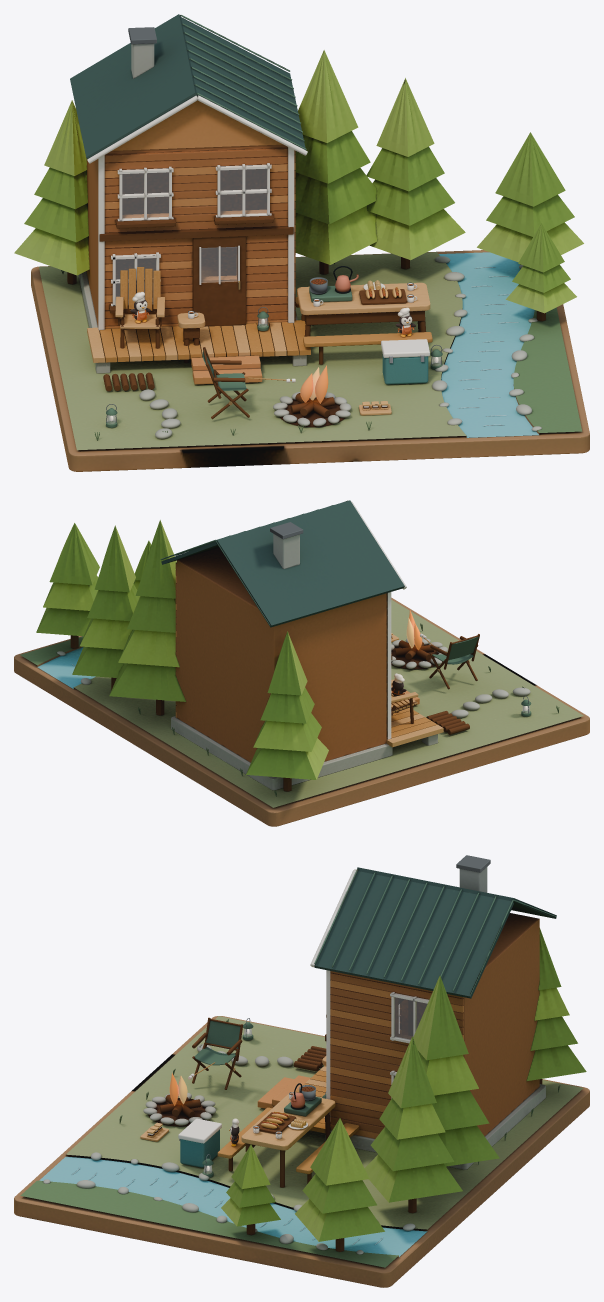
File: riverside-campsite.glb
3 views of the same model, one above another, from view 1: azimuth 30°, elevation 25°; view 2: azimuth 150°, elevation 25°; view 3: azimuth 270°, elevation 25° (orthographic). The views are drawn at different scales.
Visible parts, largest first — view 1: Baked riverside-campsite architecture, Baked riverside-campsite details, Live glass and reflective metal; view 2: Baked riverside-campsite architecture, Baked riverside-campsite details, Live glass and reflective metal; view 3: Baked riverside-campsite architecture, Baked riverside-campsite details, Live glass and reflective metal.
Part boxes in pixels (x1,y1,x2,y2): Baked riverside-campsite architecture: (14,14,589,471); Baked riverside-campsite details: (61,223,576,440); Live glass and reflective metal: (106,27,442,423); Baked riverside-campsite architecture: (14,500,589,826); Baked riverside-campsite details: (37,540,559,796); Live glass and reflective metal: (270,522,529,713); Baked riverside-campsite architecture: (14,867,589,1287); Baked riverside-campsite details: (43,1015,560,1257); Live glass and reflective metal: (179,855,490,1174).
Bounding box in the file's own units: 19.61 × 9.37 × 18.55.
7 materials, 2 textured.
